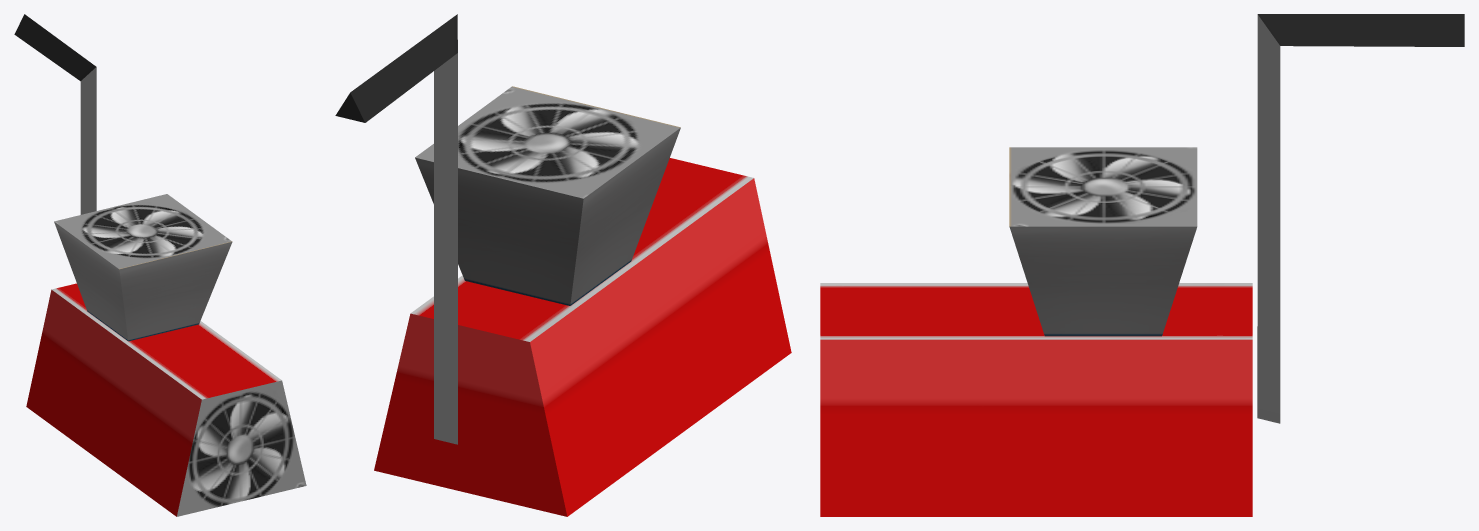
Rendered from Meat_Grinder.fbx.
The picture shows the model from 3 angles, left to right: view 1: azimuth 30°, elevation 25°; view 2: azimuth 150°, elevation 25°; view 3: azimuth 270°, elevation 25°; orthographic projection. The views are drawn at different scales.
Parts seen in each view (by area): view 1: Meat_Grinder_1; view 2: Meat_Grinder_1; view 3: Meat_Grinder_1.
Part boxes in pixels (bbox=[...]): Meat_Grinder_1: bbox=[14, 14, 306, 516]; Meat_Grinder_1: bbox=[335, 14, 791, 516]; Meat_Grinder_1: bbox=[820, 14, 1464, 516].
Bounding box in the file's own units: 23.06 × 54.63 × 68.98.
